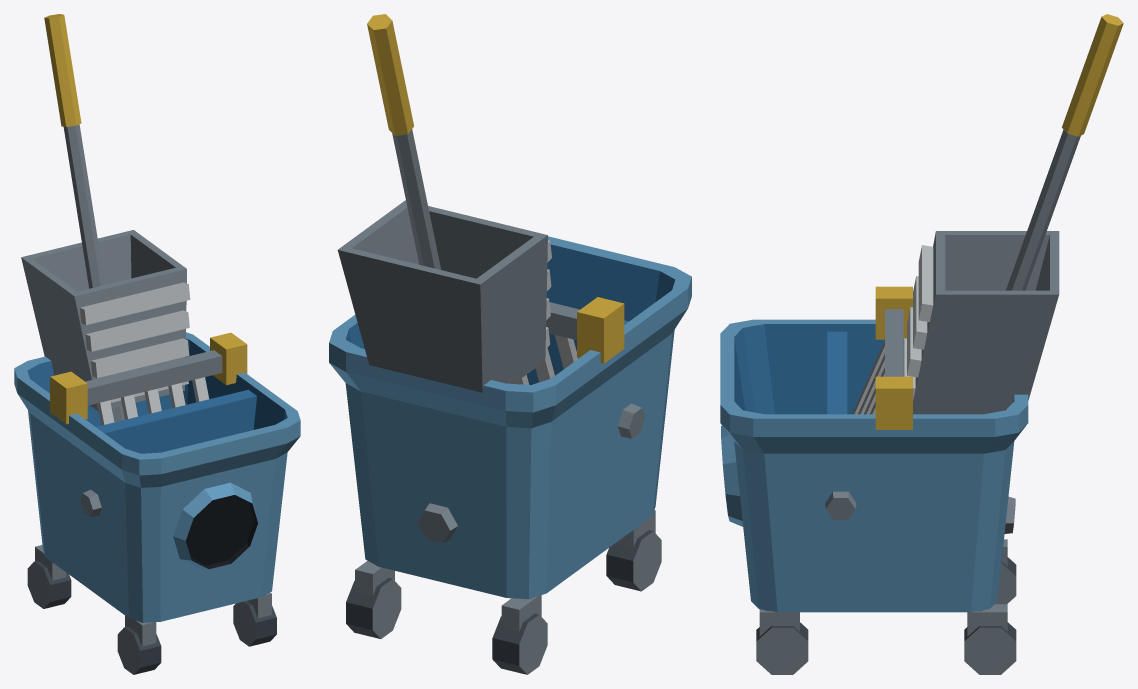
3 views of the same model, side by side, from view 1: azimuth 30°, elevation 25°; view 2: azimuth 150°, elevation 25°; view 3: azimuth 270°, elevation 25° (orthographic). The views are drawn at different scales.
Parts seen in each view (by area): view 1: mop-bucket-trolley, mop, press-comb, wheel-fl, wheel-rl, wheel-fr, caster-fl; view 2: mop-bucket-trolley, mop, wheel-rl, wheel-rr, wheel-fl, press-comb, caster-rl, caster-rr; view 3: mop-bucket-trolley, mop, wheel-rr, wheel-fr, press-comb, caster-rr, wheel-rl, caster-fr.
Part boxes in pixels (left/top/right/bottom): mop-bucket-trolley: left=14, top=230, right=300, bottom=622; mop: left=44, top=14, right=124, bottom=422; press-comb: left=85, top=350, right=222, bottom=425; wheel-fl: left=117, top=626, right=161, bottom=674; wheel-rl: left=27, top=560, right=71, bottom=608; wheel-fr: left=233, top=601, right=276, bottom=646; caster-fl: left=125, top=615, right=156, bottom=646; mop-bucket-trolley: left=329, top=200, right=691, bottom=599; mop: left=367, top=14, right=441, bottom=269; wheel-rl: left=492, top=613, right=547, bottom=674; wheel-rr: left=346, top=578, right=401, bottom=638; wheel-fl: left=606, top=530, right=661, bottom=591; press-comb: left=514, top=302, right=579, bottom=384; caster-rl: left=501, top=595, right=541, bottom=631; caster-rr: left=355, top=560, right=394, bottom=595; mop-bucket-trolley: left=720, top=231, right=1059, bottom=612; mop: left=1006, top=14, right=1123, bottom=290; wheel-rr: left=964, top=622, right=1016, bottom=674; wheel-fr: left=756, top=622, right=808, bottom=674; press-comb: left=852, top=309, right=903, bottom=414; caster-rr: left=967, top=604, right=1007, bottom=636; wheel-rl: left=995, top=557, right=1016, bottom=604; caster-fr: left=759, top=609, right=799, bottom=636.
Size of the model in its own units: 0.36 by 1.02 by 0.6022.
